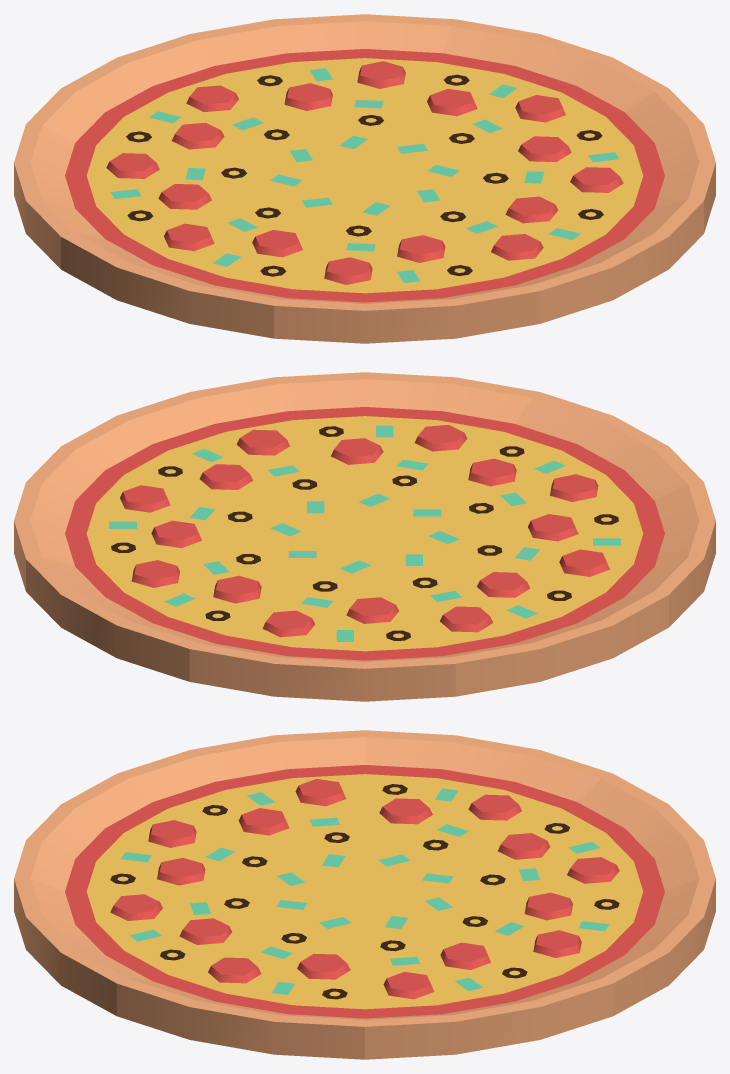
The model's file is Pizza.glb.
3 renders of one model, top to bottom at view 1: azimuth 30°, elevation 25°; view 2: azimuth 150°, elevation 25°; view 3: azimuth 270°, elevation 25°, orthographic.
Parts seen in each view (by area): view 1: Pizza; view 2: Pizza; view 3: Pizza.
Part boxes in pixels (left/top/right/bottom): Pizza: left=14, top=14, right=715, bottom=343; Pizza: left=14, top=372, right=715, bottom=701; Pizza: left=14, top=730, right=715, bottom=1059.
Bounding box in the file's own units: 0.5472 × 0.0283 × 0.5472.
